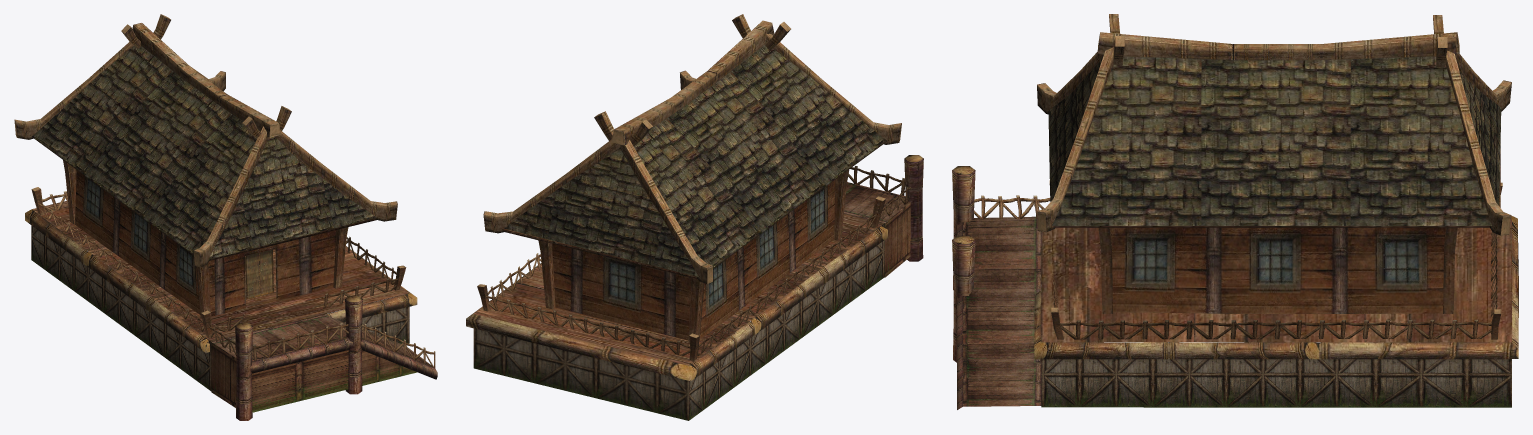
File: cj_thiefvill_house_03_01.glb
3 views of the same model, side by side, from view 1: azimuth 30°, elevation 25°; view 2: azimuth 150°, elevation 25°; view 3: azimuth 270°, elevation 25° (orthographic). The views are drawn at different scales.
Visible parts, largest first — view 1: cj_thiefvill_house_03_05, cj_thiefvill_house_03_09, cj_thiefvill_house_03_08, cj_thiefvill_house_03_07, cj_thiefvill_house_03_06, cj_thiefvill_house_03_03, cj_thiefvill_house_03_01, cj_thiefvill_house_03_04; view 2: cj_thiefvill_house_03_05, cj_thiefvill_house_03_09, cj_thiefvill_house_03_07, cj_thiefvill_house_03_01, cj_thiefvill_house_03_03, cj_thiefvill_house_03_08, cj_thiefvill_house_03_06; view 3: cj_thiefvill_house_03_05, cj_thiefvill_house_03_09, cj_thiefvill_house_03_07, cj_thiefvill_house_03_08, cj_thiefvill_house_03_01, cj_thiefvill_house_03_03.
Part boxes in pixels (x1,y1,x2,y2): cj_thiefvill_house_03_05: (32, 46, 376, 316); cj_thiefvill_house_03_09: (14, 14, 409, 341); cj_thiefvill_house_03_08: (211, 296, 437, 420); cj_thiefvill_house_03_07: (31, 225, 409, 390); cj_thiefvill_house_03_06: (211, 338, 417, 412); cj_thiefvill_house_03_03: (38, 191, 435, 367); cj_thiefvill_house_03_01: (25, 209, 417, 352); cj_thiefvill_house_03_04: (245, 249, 273, 299); cj_thiefvill_house_03_05: (504, 44, 887, 340); cj_thiefvill_house_03_09: (474, 14, 901, 365); cj_thiefvill_house_03_07: (473, 223, 884, 420); cj_thiefvill_house_03_01: (466, 226, 887, 381); cj_thiefvill_house_03_03: (486, 166, 910, 355); cj_thiefvill_house_03_08: (844, 155, 923, 261); cj_thiefvill_house_03_06: (884, 202, 910, 277); cj_thiefvill_house_03_05: (1048, 56, 1501, 313); cj_thiefvill_house_03_09: (1037, 14, 1511, 342); cj_thiefvill_house_03_07: (1041, 342, 1511, 407); cj_thiefvill_house_03_08: (952, 166, 1041, 409); cj_thiefvill_house_03_01: (1034, 216, 1518, 359); cj_thiefvill_house_03_03: (974, 195, 1497, 339).
Bounding box in the file's own units: 16.55 × 17.87 × 28.05.
9 materials, 9 textured.
